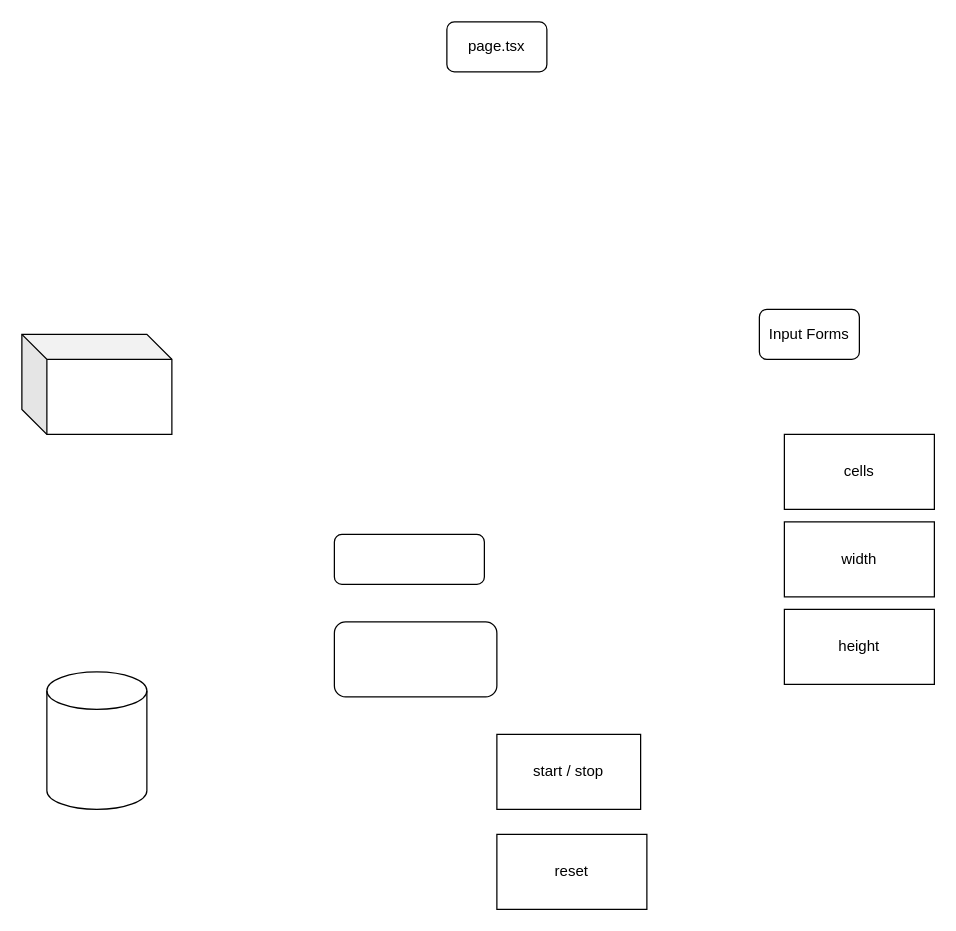
Some shapes in this 956 by 931 pixel diagram are drawn without their labels. The centre of each missing label's shape, as x and y in pixels:
Buttons: the point at 415,659
conway css module: the point at 96,740
conway engine: the point at 96,383
Inputs: the point at 408,558
